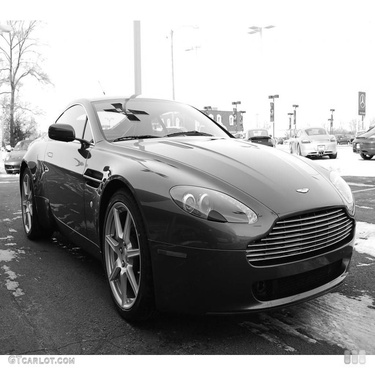car: (18, 89, 360, 331), (4, 131, 45, 179), (284, 125, 340, 157), (230, 121, 277, 158), (350, 121, 373, 162)
